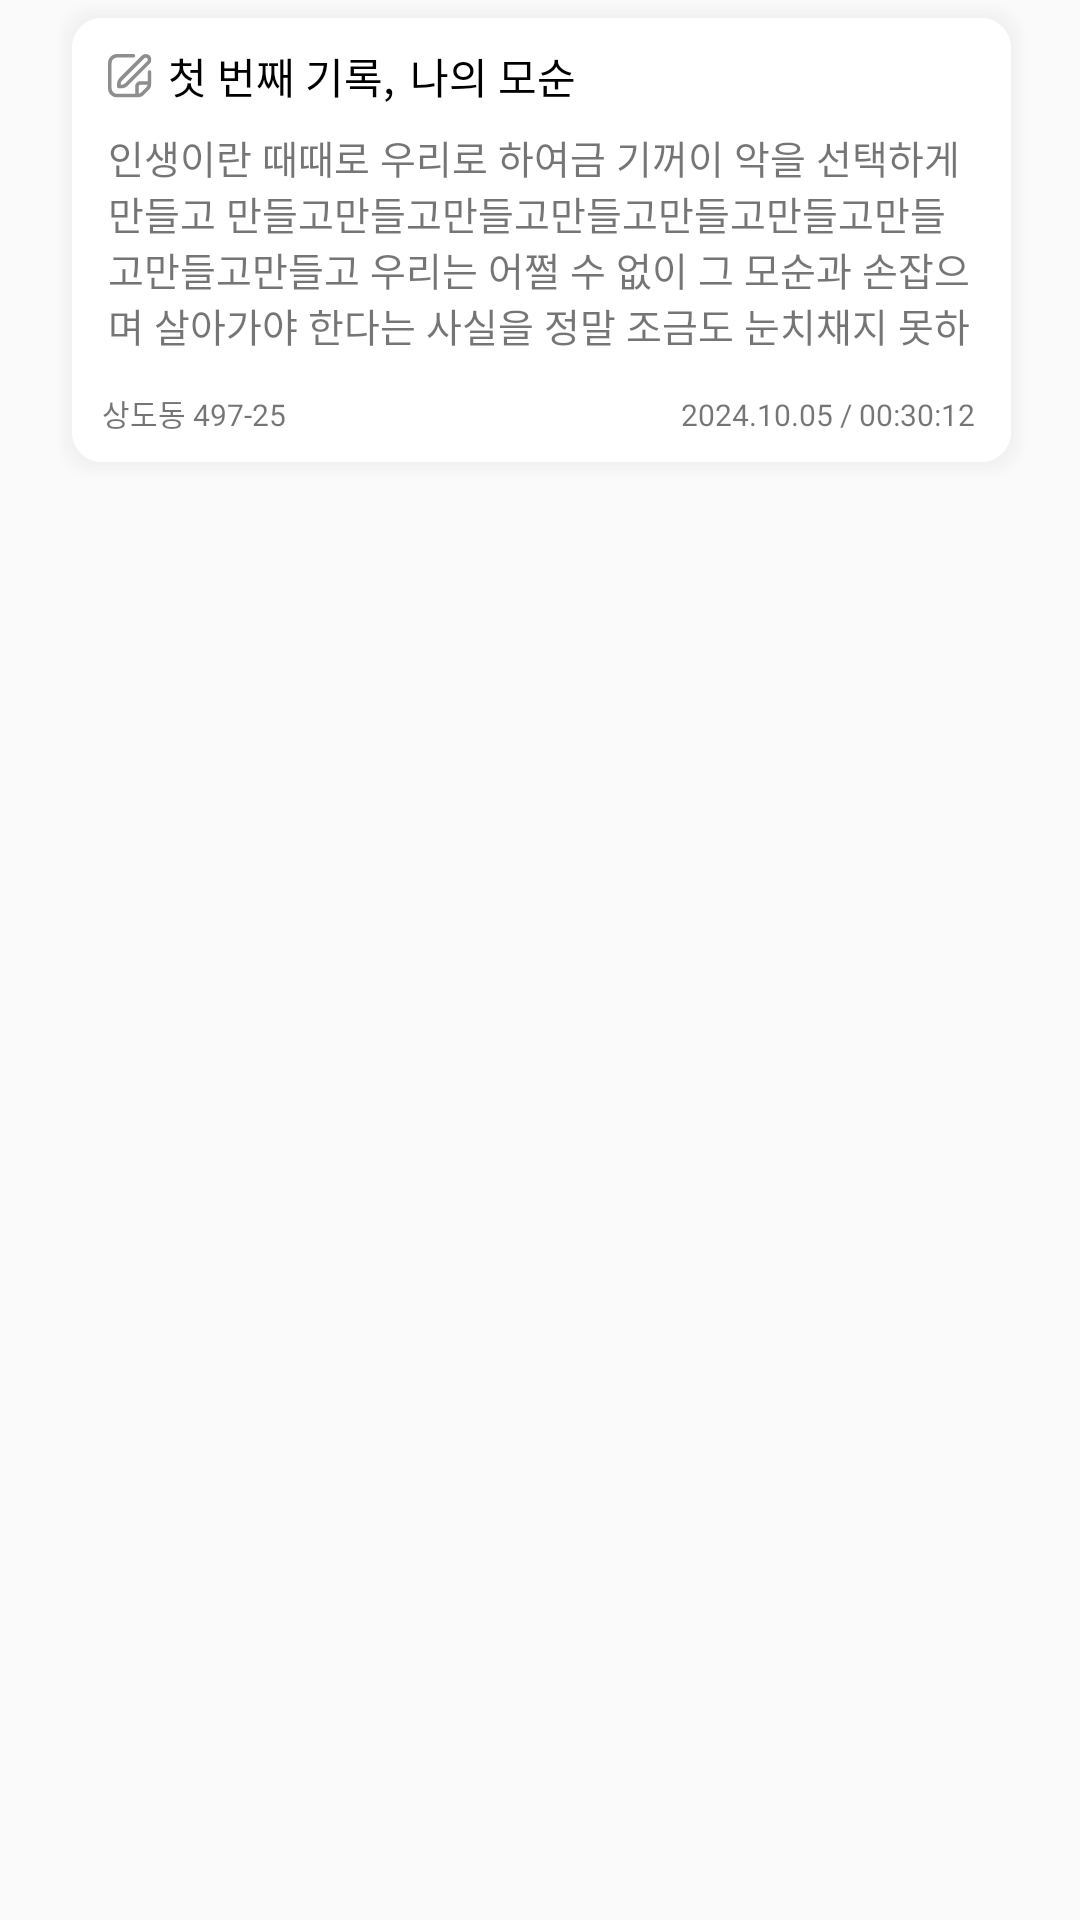

Icons on this 1080 x 1920 Android screen, each with the point to tap as [x,y]:
record pencil: [129,76]
